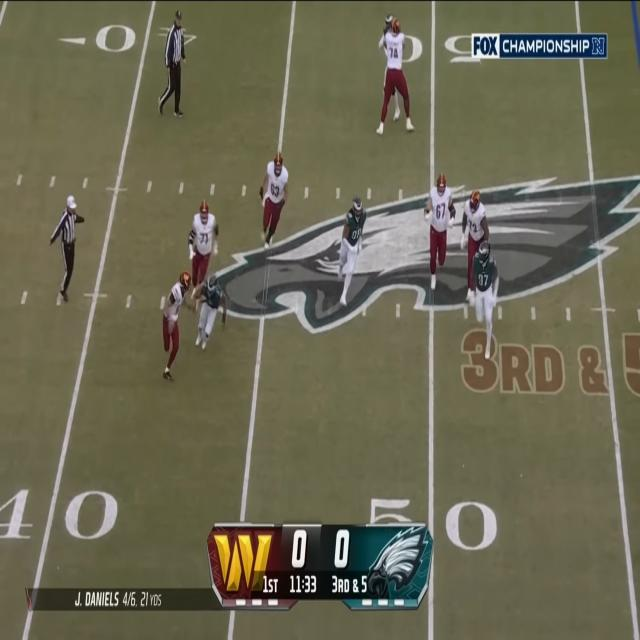Ball: (168, 316, 176, 337)
